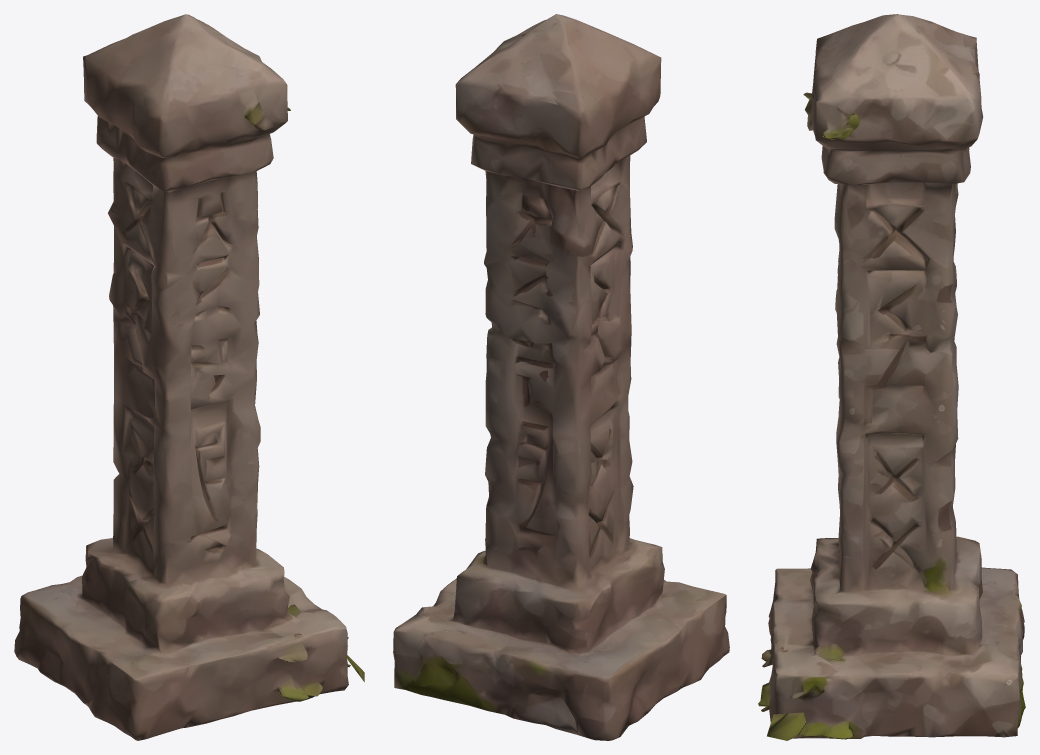
File: stone_post.glb
The picture shows the model from 3 angles, left to right: view 1: azimuth 30°, elevation 25°; view 2: azimuth 150°, elevation 25°; view 3: azimuth 270°, elevation 25°; orthographic projection. The views are drawn at different scales.
Visible parts, largest first — view 1: tripo_node_7cafbe25-f9ed-4f23-bbb7-e0b61ce9d6b1; view 2: tripo_node_7cafbe25-f9ed-4f23-bbb7-e0b61ce9d6b1; view 3: tripo_node_7cafbe25-f9ed-4f23-bbb7-e0b61ce9d6b1.
Boxes of the visible parts, box(x1,y1,x2,y2) form: tripo_node_7cafbe25-f9ed-4f23-bbb7-e0b61ce9d6b1: box(14, 14, 364, 740); tripo_node_7cafbe25-f9ed-4f23-bbb7-e0b61ce9d6b1: box(393, 14, 729, 740); tripo_node_7cafbe25-f9ed-4f23-bbb7-e0b61ce9d6b1: box(758, 14, 1025, 740).
Bounding box in the file's own units: 0.3869 × 1 × 0.3614.
1 material, 1 textured.
